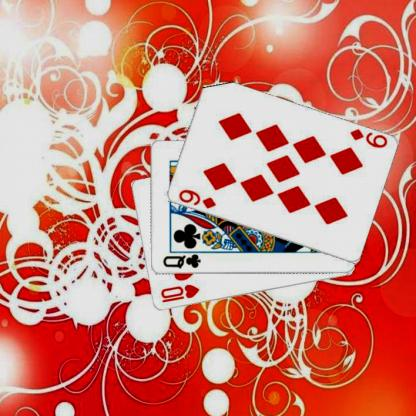10H: (158, 282, 200, 304)
9D: (348, 126, 388, 150), (176, 187, 216, 210)
QC: (160, 252, 202, 270)
